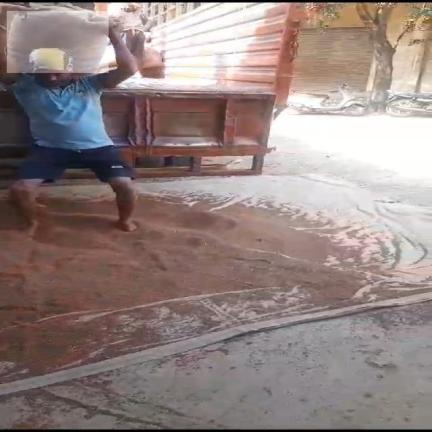Zone-Counting: (0, 3, 136, 231)
